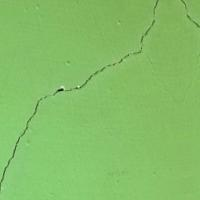crack: (0, 29, 144, 192)
